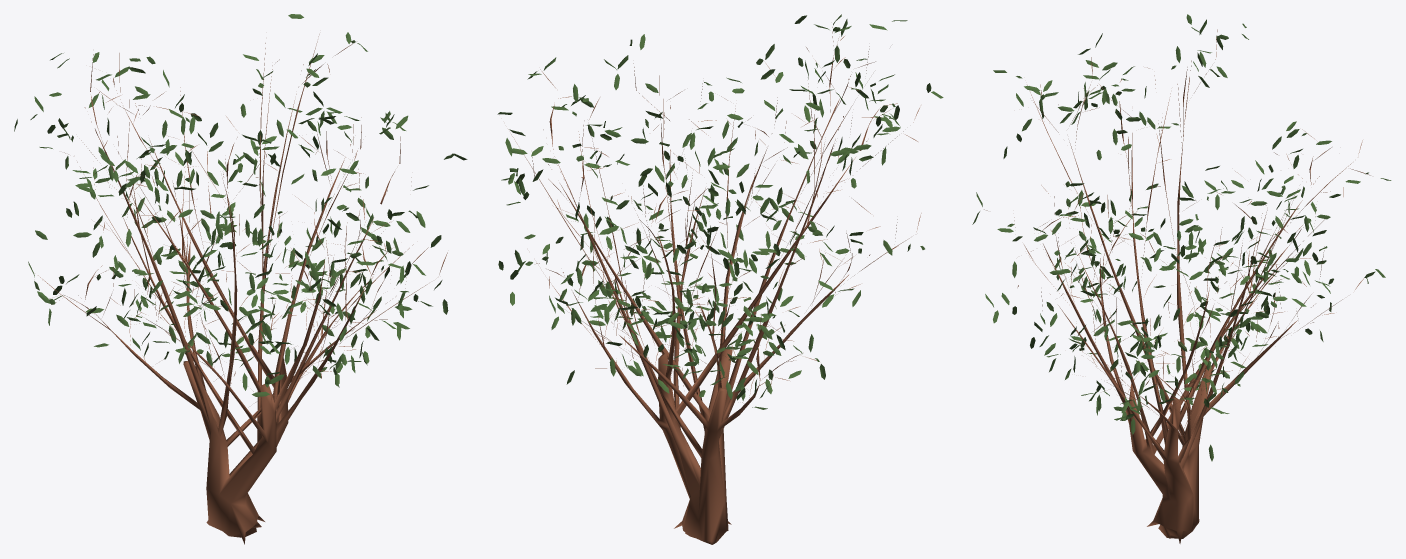
Rendered from Arbousier_1_Niveau1.fbx.
The picture shows the model from 3 angles, left to right: view 1: azimuth 30°, elevation 25°; view 2: azimuth 150°, elevation 25°; view 3: azimuth 270°, elevation 25°; orthographic projection. The views are drawn at different scales.
Parts seen in each view (by area): view 1: Arbousier_1_Niveau1; view 2: Arbousier_1_Niveau1; view 3: Arbousier_1_Niveau1.
Part boxes in pixels (left/top/right/bottom): Arbousier_1_Niveau1: left=14, top=14, right=467, bottom=544; Arbousier_1_Niveau1: left=497, top=14, right=943, bottom=544; Arbousier_1_Niveau1: left=972, top=14, right=1391, bottom=543.
Size of the model in its own units: 274 by 341 by 285.
